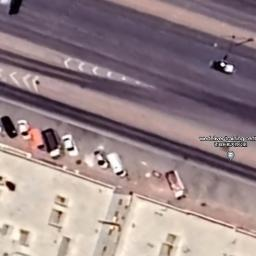sedan: (2, 116, 18, 138), (62, 134, 78, 156), (210, 60, 234, 74), (18, 120, 32, 140), (94, 150, 108, 168)
truck: (42, 128, 60, 158)
van: (107, 153, 127, 178)
